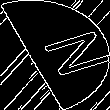N_SW: (12, 27, 98, 83)
